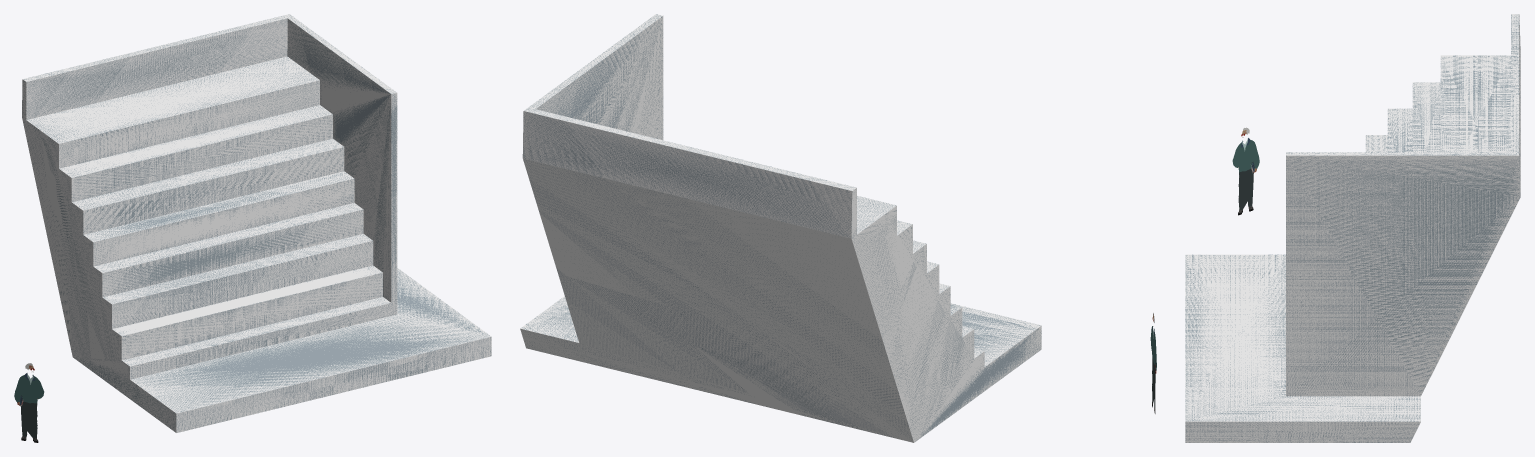
File: 2ndBancoAnfiteatro3d.dae
The picture shows the model from 3 angles, left to right: view 1: azimuth 30°, elevation 25°; view 2: azimuth 150°, elevation 25°; view 3: azimuth 270°, elevation 25°; orthographic projection. The views are drawn at different scales.
Parts seen in each view (by area): view 1: SketchUp, instance_0 (×2); view 2: SketchUp; view 3: SketchUp, instance_0 (×2).
Boxes of the visible parts, <box> form: SketchUp: <box>22,14,491,432</box>; instance_0 (×2): <box>14,375,44,438</box>; SketchUp: <box>520,14,1041,442</box>; SketchUp: <box>1185,14,1520,442</box>; instance_0 (×2): <box>1232,139,1259,210</box>.
Bounding box in the file's own units: 392 × 237 × 204.
